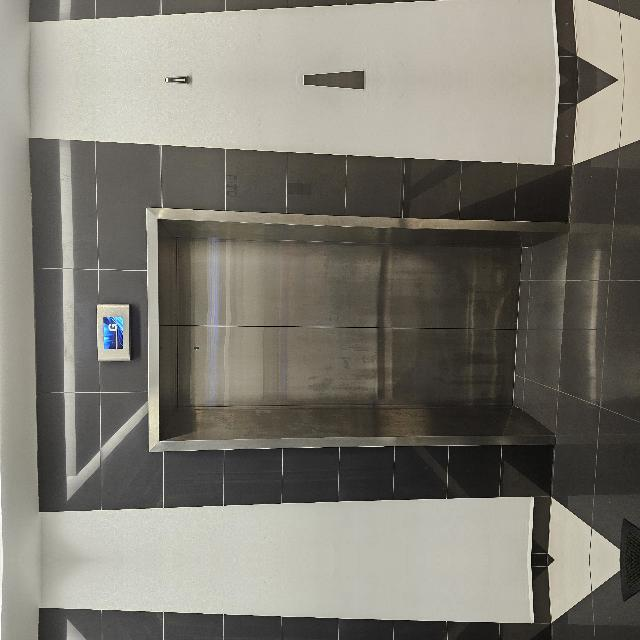door: (107, 224, 355, 640), (107, 470, 355, 640)
